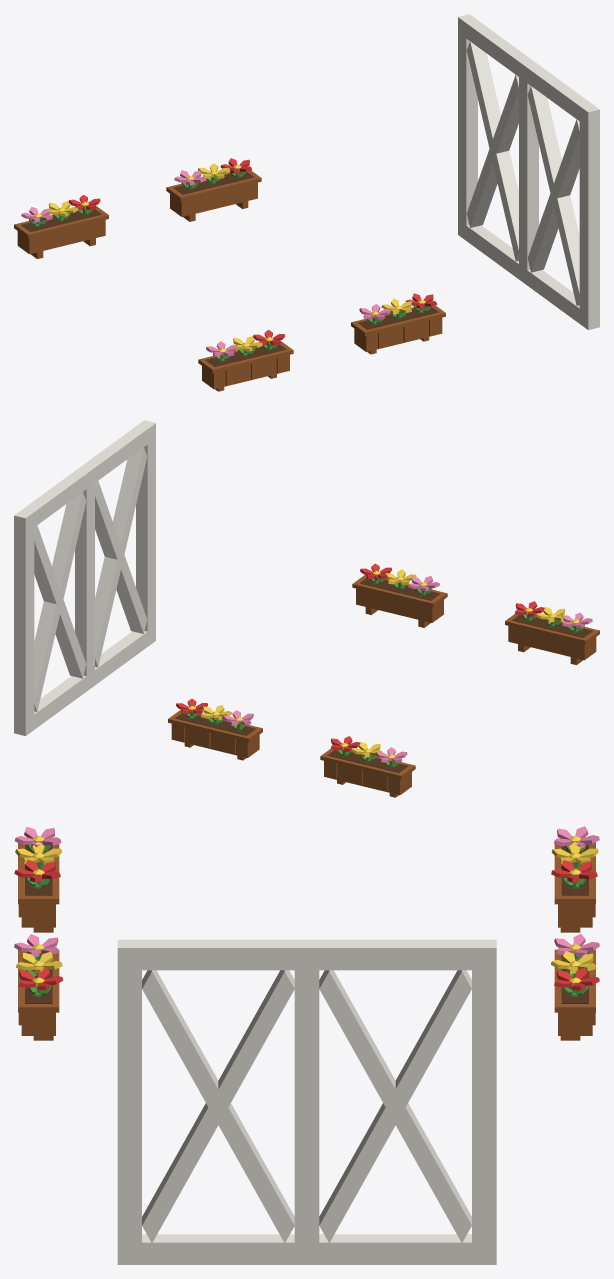
The model's file is w1_farmdetails.fbx.
3 renders of one model, top to bottom at view 1: azimuth 30°, elevation 25°; view 2: azimuth 150°, elevation 25°; view 3: azimuth 270°, elevation 25°, orthographic. The views are drawn at different scales.
Parts seen in each view (by area): view 1: BarnDetails.Trim, CottageDetails.Box, CottageDetails.Soil, CottageDetails.Pink, CottageDetails.Yellow, CottageDetails.Red, CottageDetails.Leaves; view 2: BarnDetails.Trim, CottageDetails.Box, CottageDetails.Soil, CottageDetails.Pink, CottageDetails.Red, CottageDetails.Yellow, CottageDetails.Leaves; view 3: BarnDetails.Trim, CottageDetails.Box, CottageDetails.Red, CottageDetails.Pink, CottageDetails.Yellow, CottageDetails.Soil, CottageDetails.Leaves, CottageDetails.Centres.
Boxes of the visible parts, x1=… form: BarnDetails.Trim: x1=458, y1=14, x2=599, y2=329; CottageDetails.Box: x1=14, y1=170, x2=445, y2=391; CottageDetails.Soil: x1=21, y1=171, x2=438, y2=366; CottageDetails.Pink: x1=21, y1=170, x2=390, y2=356; CottageDetails.Yellow: x1=47, y1=163, x2=411, y2=351; CottageDetails.Red: x1=68, y1=158, x2=437, y2=345; CottageDetails.Leaves: x1=29, y1=170, x2=430, y2=361; BarnDetails.Trim: x1=14, y1=420, x2=155, y2=735; CottageDetails.Box: x1=168, y1=574, x2=599, y2=797; CottageDetails.Soil: x1=175, y1=578, x2=592, y2=772; CottageDetails.Pink: x1=222, y1=576, x2=592, y2=762; CottageDetails.Red: x1=176, y1=563, x2=544, y2=751; CottageDetails.Yellow: x1=201, y1=569, x2=566, y2=757; CottageDetails.Leaves: x1=185, y1=577, x2=584, y2=767; BarnDetails.Trim: x1=117, y1=939, x2=496, y2=1264; CottageDetails.Box: x1=18, y1=842, x2=595, y2=1040; CottageDetails.Red: x1=14, y1=860, x2=599, y2=990; CottageDetails.Pink: x1=14, y1=826, x2=599, y2=956; CottageDetails.Yellow: x1=15, y1=842, x2=598, y2=973; CottageDetails.Soil: x1=25, y1=844, x2=588, y2=1003; CottageDetails.Leaves: x1=25, y1=844, x2=588, y2=996; CottageDetails.Centres: x1=32, y1=836, x2=581, y2=986.
Size of the model in its own units: 14.43 by 7.1 by 11.9.
